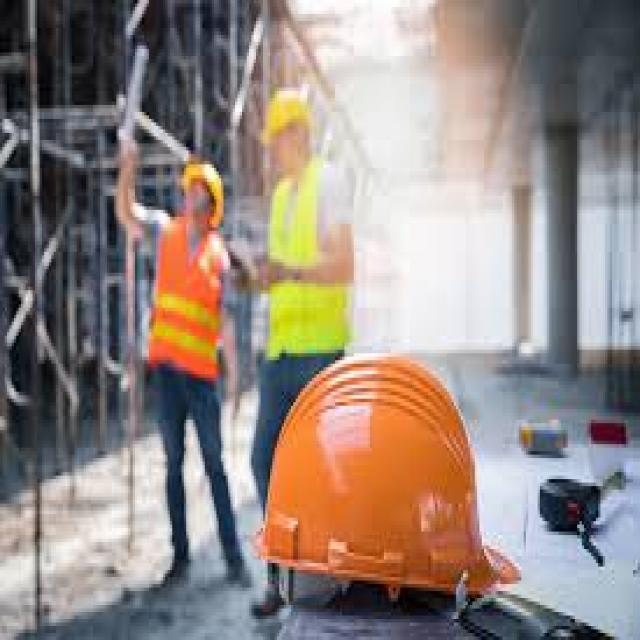Reflective-Jacket: (256, 164, 363, 378), (142, 220, 233, 392)
Safety-Helmet: (251, 346, 512, 612), (254, 77, 319, 154), (172, 147, 228, 224)
